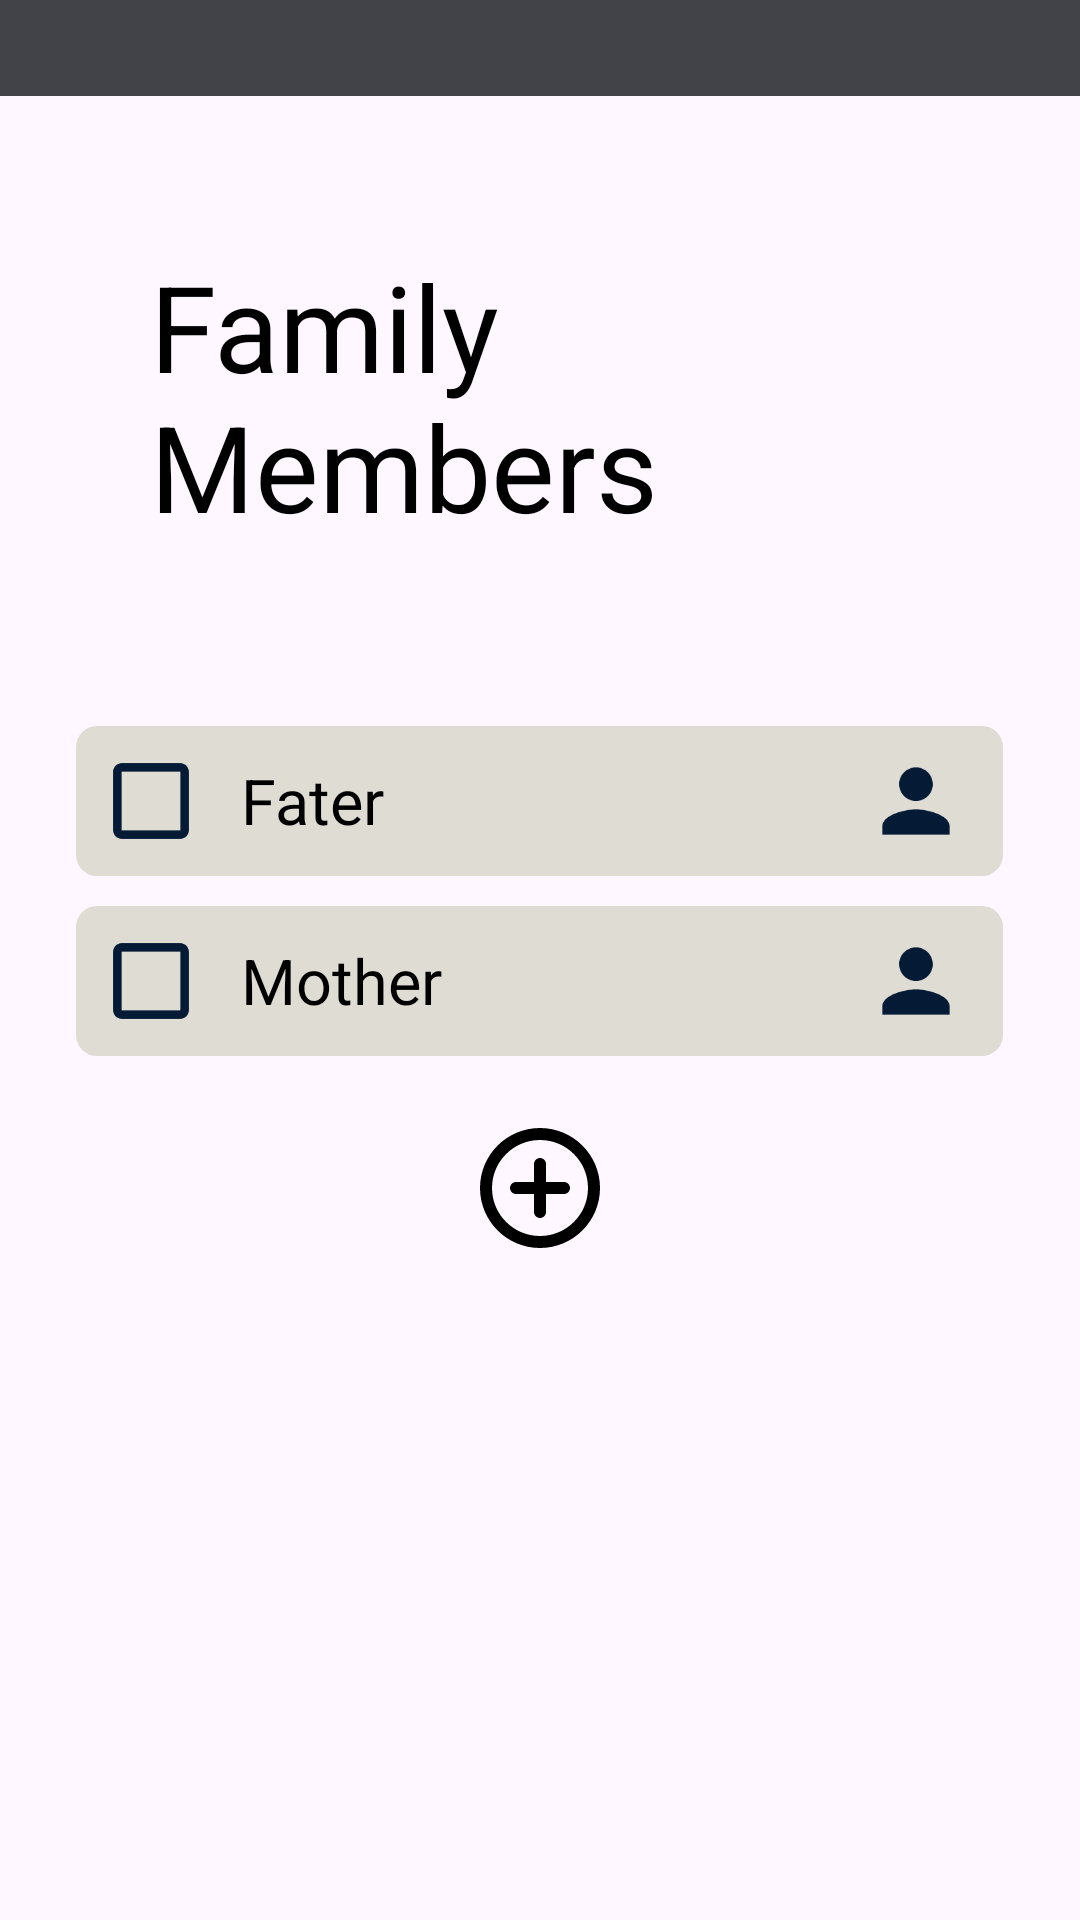

Locate icon controls on the screen. Image size 1080×1920, boxes as (x1, y1, x2, y2).
add circle: (480, 1128, 600, 1248)
